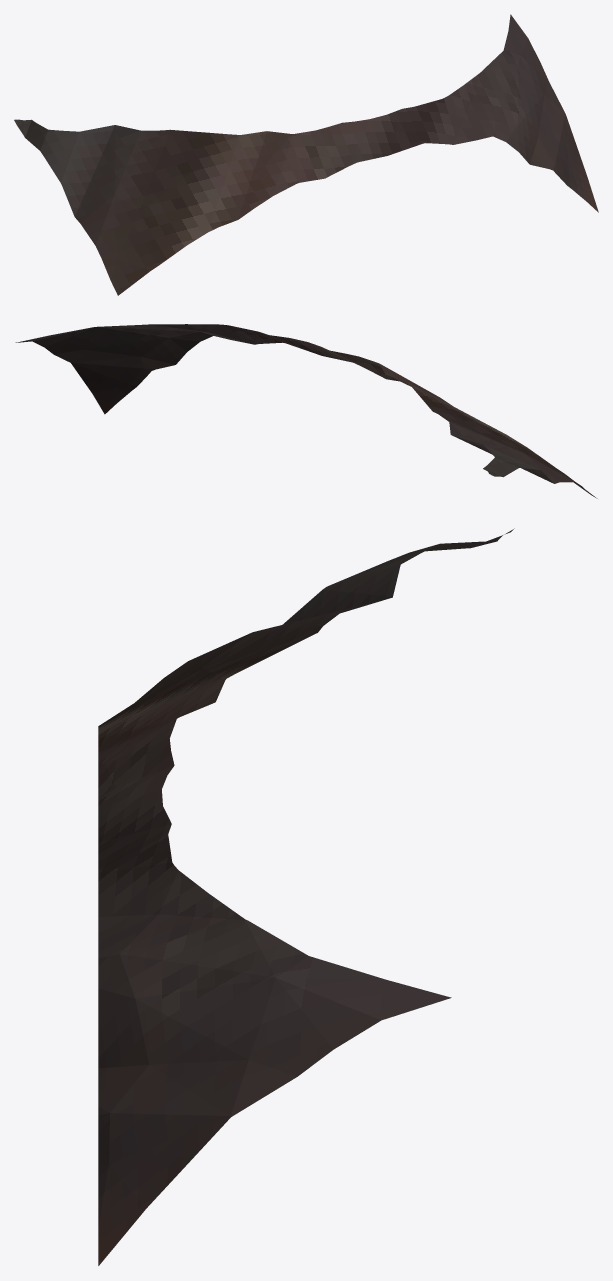
The picture shows the model from 3 angles, top to bottom: view 1: azimuth 30°, elevation 25°; view 2: azimuth 150°, elevation 25°; view 3: azimuth 270°, elevation 25°; orthographic projection. The views are drawn at different scales.
Parts seen in each view (by area): view 1: 091_W_Aya_100K_01; view 2: 091_W_Aya_100K_01; view 3: 091_W_Aya_100K_01.
Boxes of the visible parts, x1,y1,x2,y2 form: 091_W_Aya_100K_01: [14, 14, 598, 295]; 091_W_Aya_100K_01: [15, 324, 597, 498]; 091_W_Aya_100K_01: [98, 528, 514, 1265].
Size of the model in its own units: 42.87 by 11.45 by 16.06.
1 material, 1 textured.
